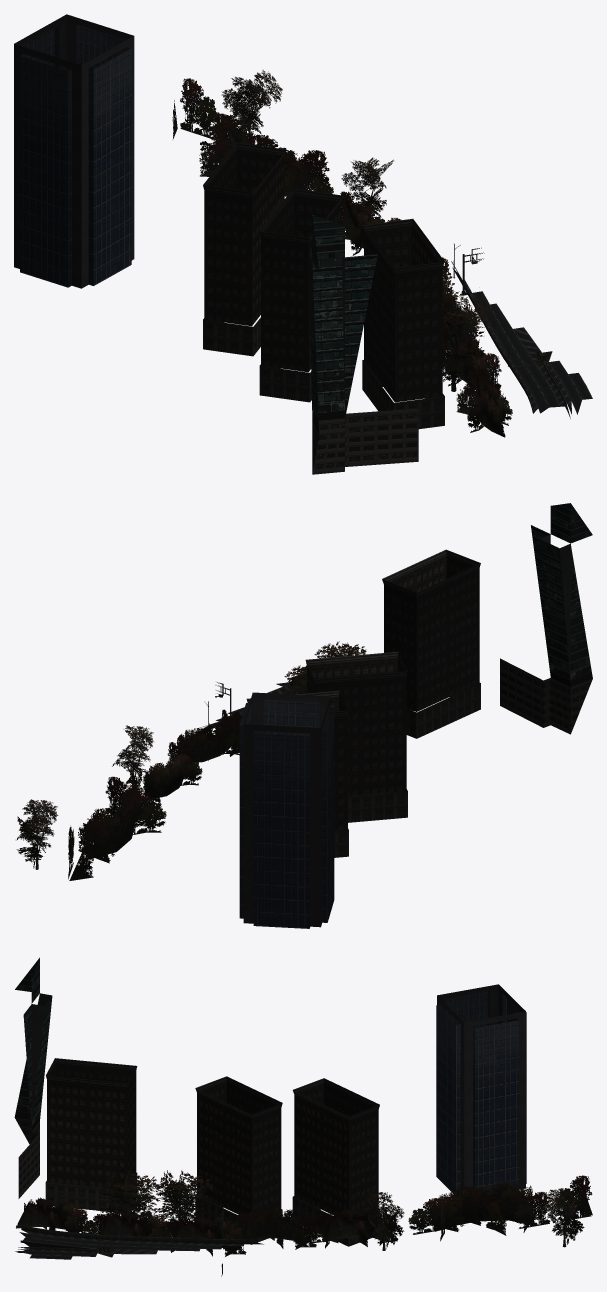
Rendered from cell_1_-2.gltf.
The picture shows the model from 3 angles, top to bottom: view 1: azimuth 30°, elevation 25°; view 2: azimuth 150°, elevation 25°; view 3: azimuth 270°, elevation 25°; orthographic projection. The views are drawn at different scales.
Visible parts, largest first — view 1: cell_1_-2; view 2: cell_1_-2; view 3: cell_1_-2.
Boxes of the visible parts, box(x1,y1,x2,y2) form: cell_1_-2: box(14, 14, 592, 474); cell_1_-2: box(16, 503, 592, 928); cell_1_-2: box(14, 957, 592, 1276).
Size of the model in its own units: 128 by 113 by 264.
32 materials, 32 textured.
